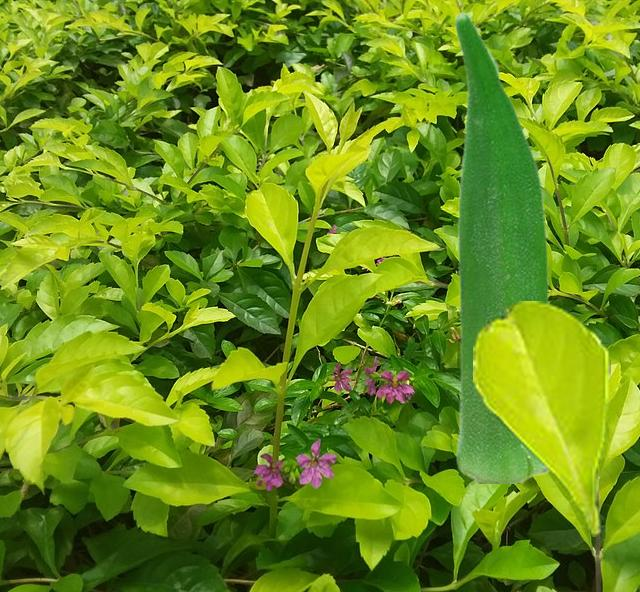okra: (454, 11, 548, 482)
